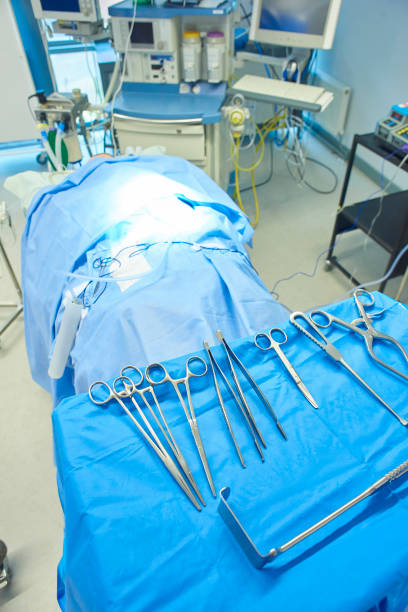bedside_monitor: (112, 23, 172, 53), (33, 1, 106, 22)
breathing_tube: (37, 120, 69, 173)
computer: (251, 1, 343, 48)
electrosurgical_unit: (373, 101, 408, 157)
keyboard: (238, 76, 318, 102)
medical_drawer: (110, 101, 230, 191)
operating_bed: (1, 152, 358, 532)
patient: (77, 148, 278, 390)
surgical_instrument: (86, 287, 408, 573)
utility_cart: (323, 132, 408, 291)
